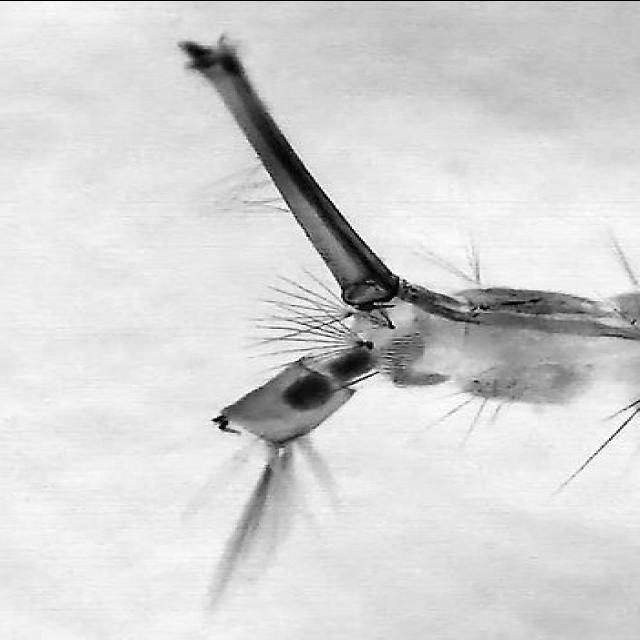larvas: (201, 63, 640, 464)
